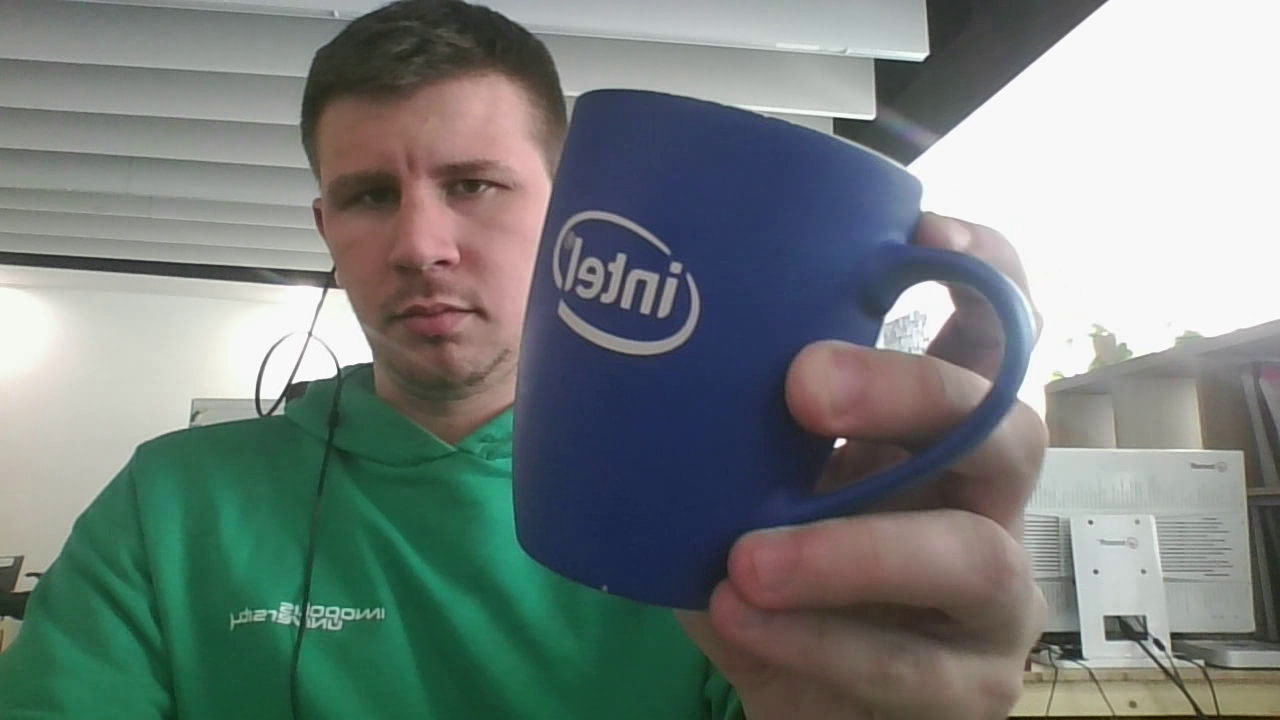cup: (510, 88, 1035, 614)
